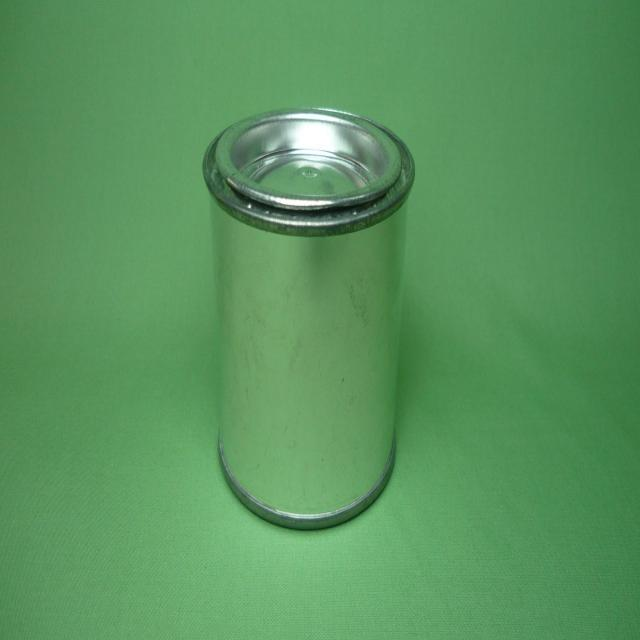metel: (195, 94, 430, 559)
